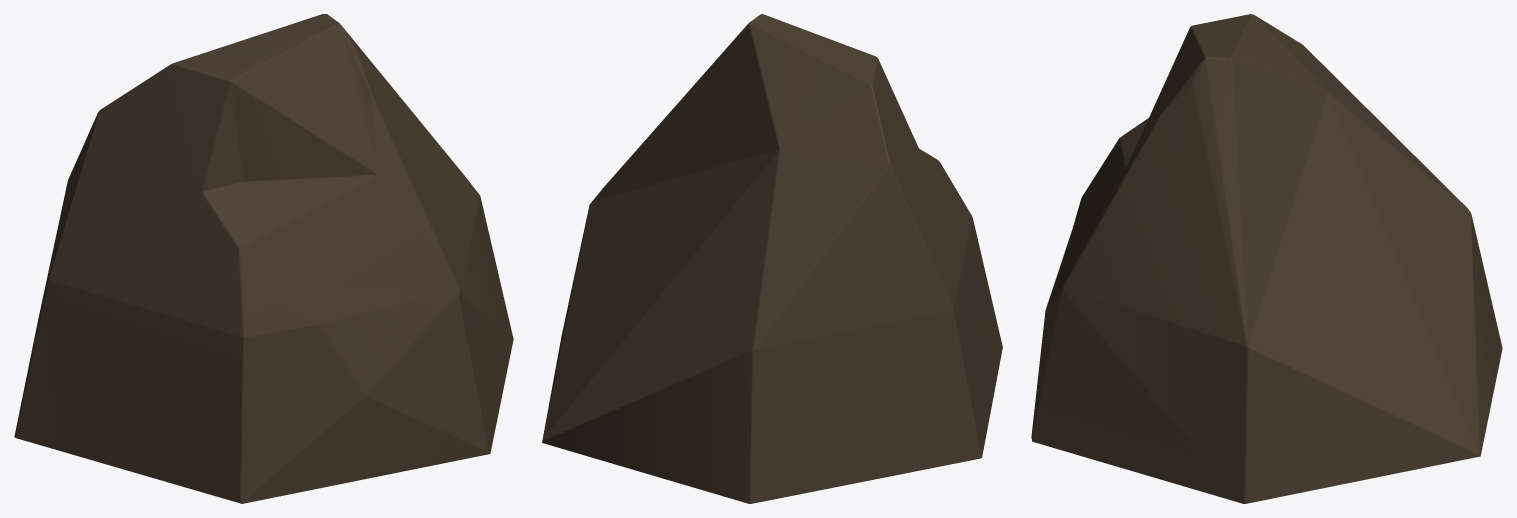
Rendered from Rock_A.fbx.
The picture shows the model from 3 angles, left to right: view 1: azimuth 30°, elevation 25°; view 2: azimuth 150°, elevation 25°; view 3: azimuth 270°, elevation 25°; orthographic projection. The views are drawn at different scales.
Visible parts, largest first — view 1: polySurface19; view 2: polySurface19; view 3: polySurface19.
Boxes of the visible parts, x1,y1,x2,y2 form: polySurface19: (14,14,513,503); polySurface19: (542,14,1002,503); polySurface19: (1031,14,1502,503).
Size of the model in its own units: 11.83 by 9 by 10.75.
